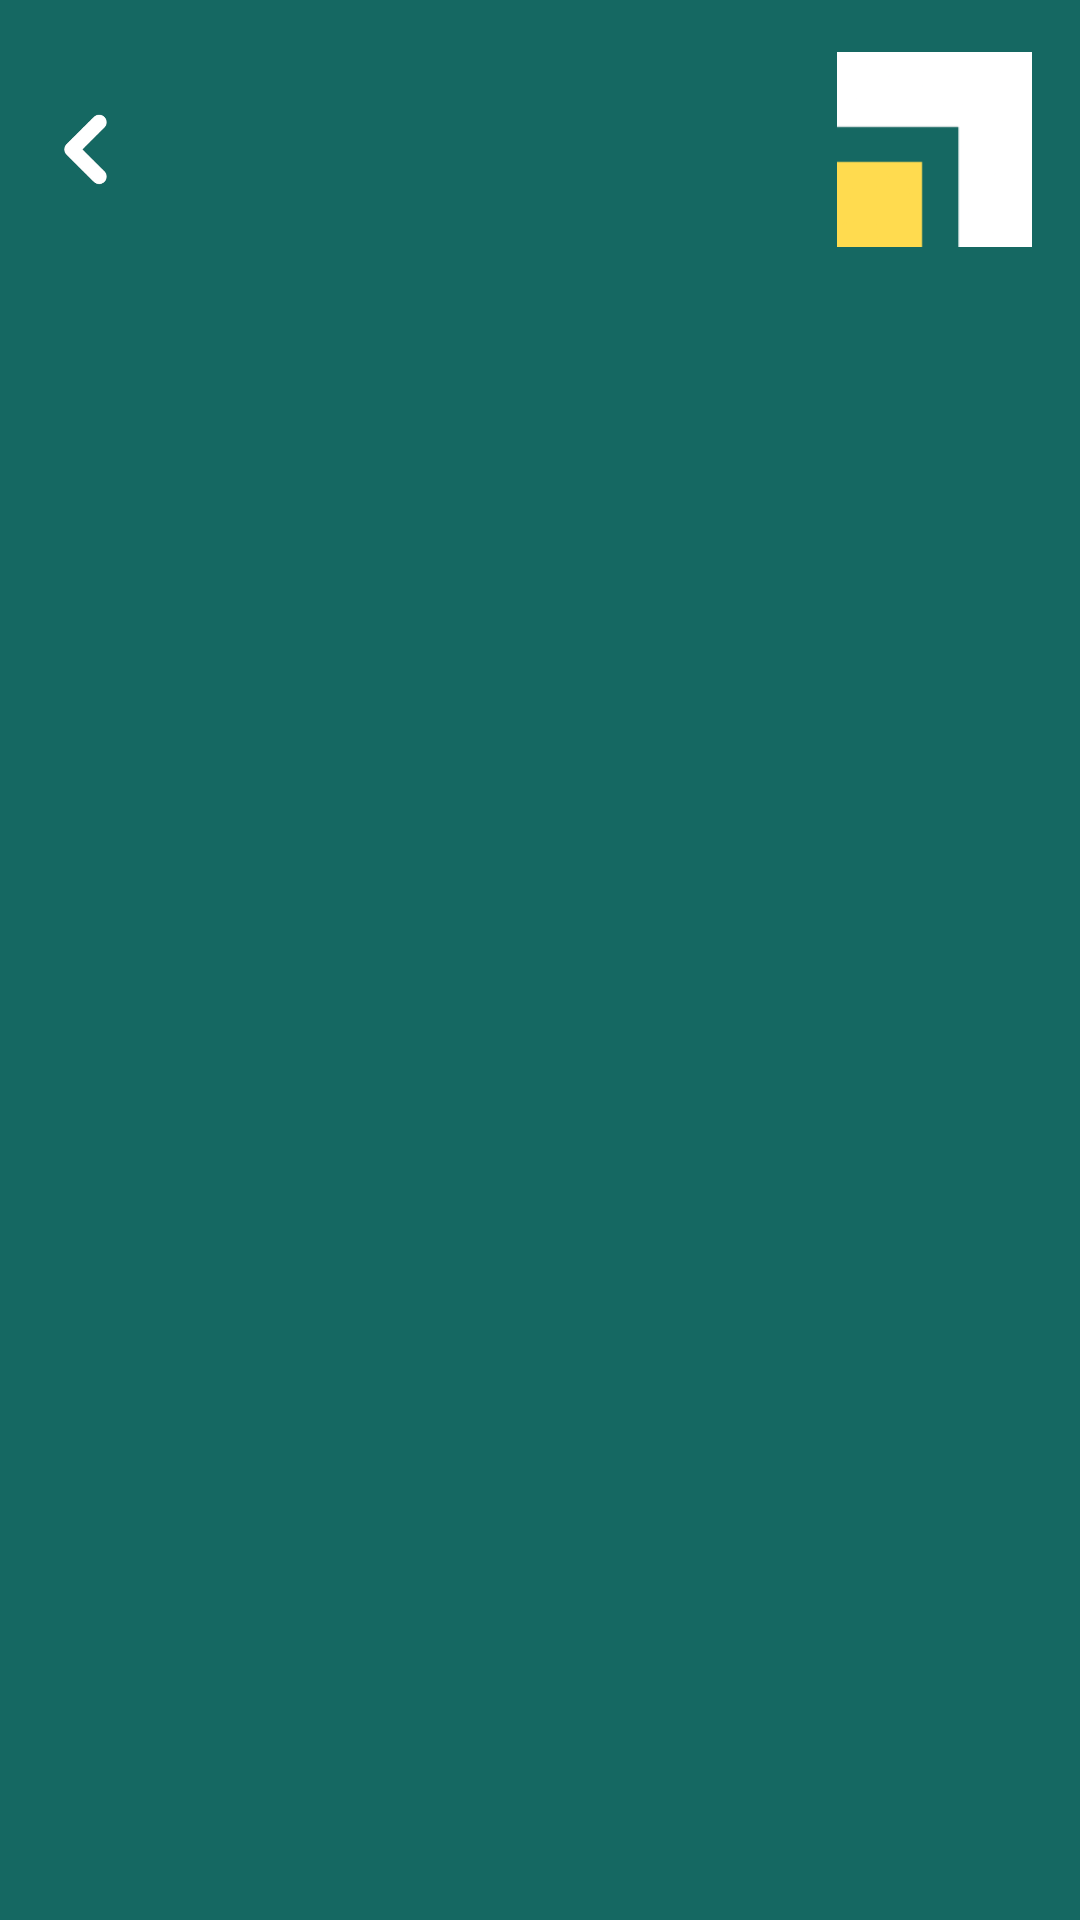

Locate icon controls on the screen. Image size 1080*1920, boxes as bbox(x1, y1, x2, y2).
back: bbox(64, 114, 107, 184)
